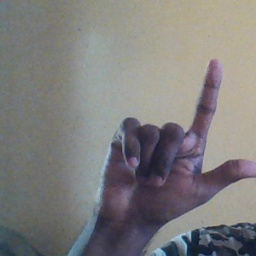L: (92, 58, 256, 217)
